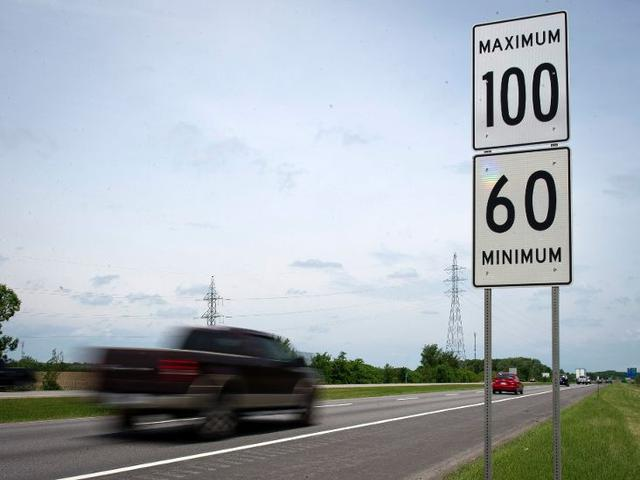vitesse: (470, 155, 574, 288), (471, 10, 569, 146)
